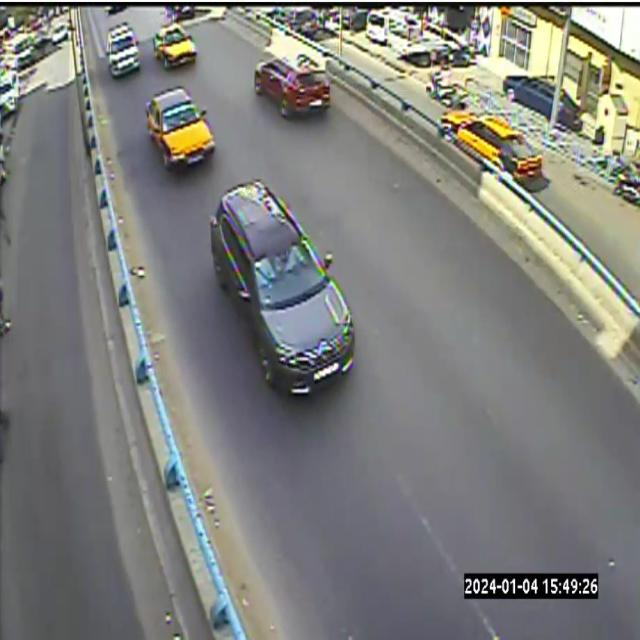car: (210, 180, 355, 395), (438, 109, 541, 181), (254, 32, 330, 117), (145, 87, 215, 169), (154, 24, 197, 67), (105, 22, 139, 76)
